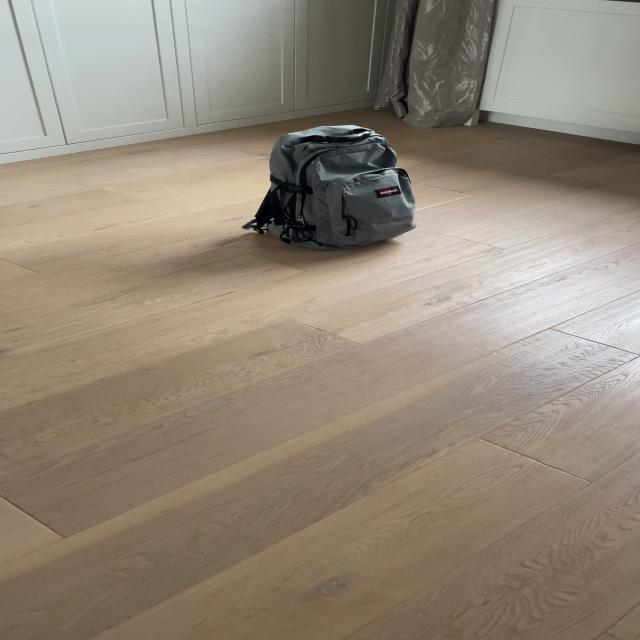backpack: (243, 119, 422, 258)
